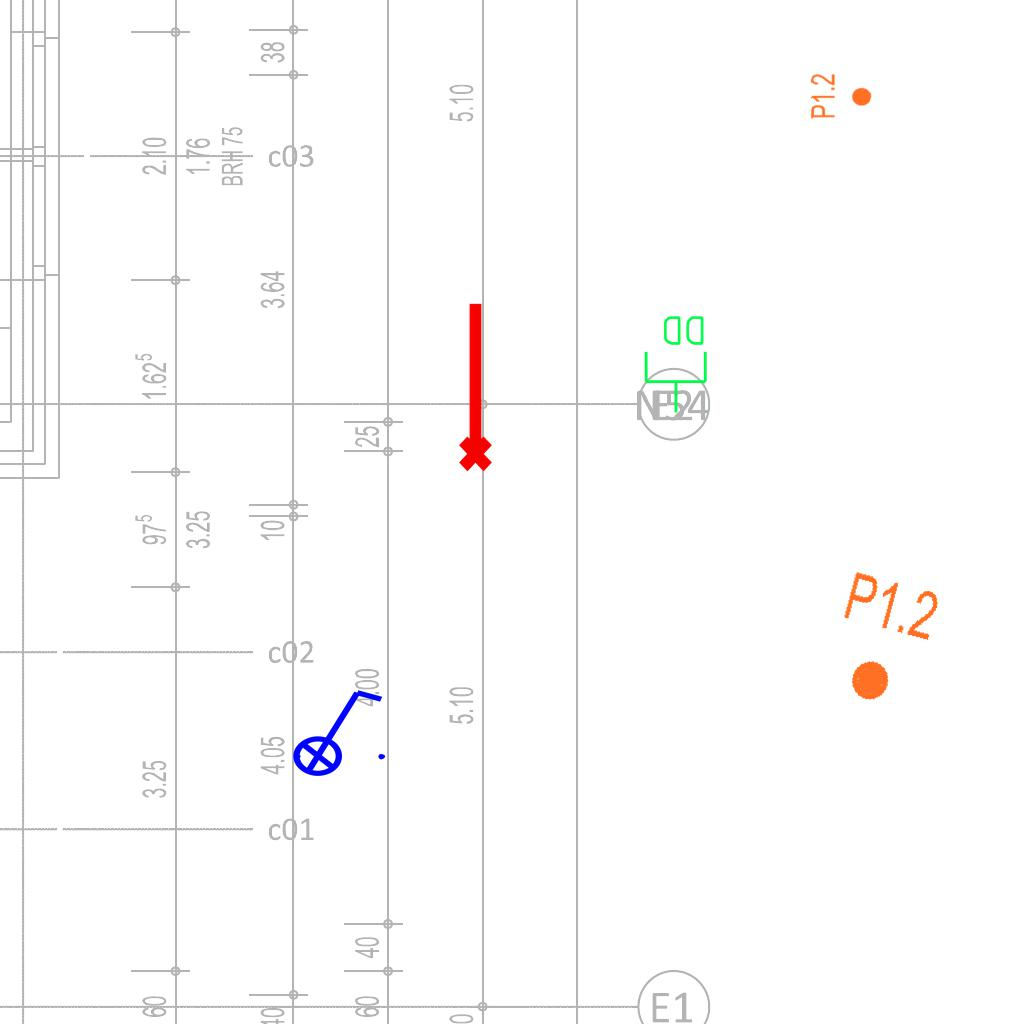ASR_Ansaugoeffnung: (450, 298, 496, 474)
Ausschalter_beleuchtet: (279, 682, 391, 778)
Datenanschluss_zweifach: (642, 312, 711, 415)
Downlight_LED_Einbauleuchten_Flur: (821, 567, 944, 715), (808, 72, 874, 120)
